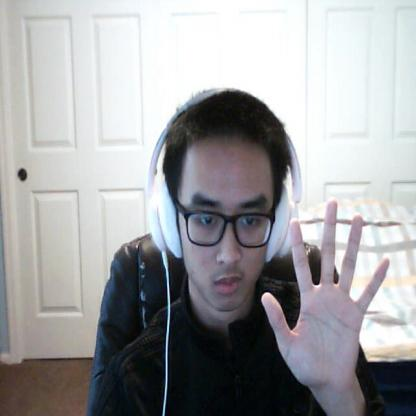palm: (260, 195, 390, 400)
